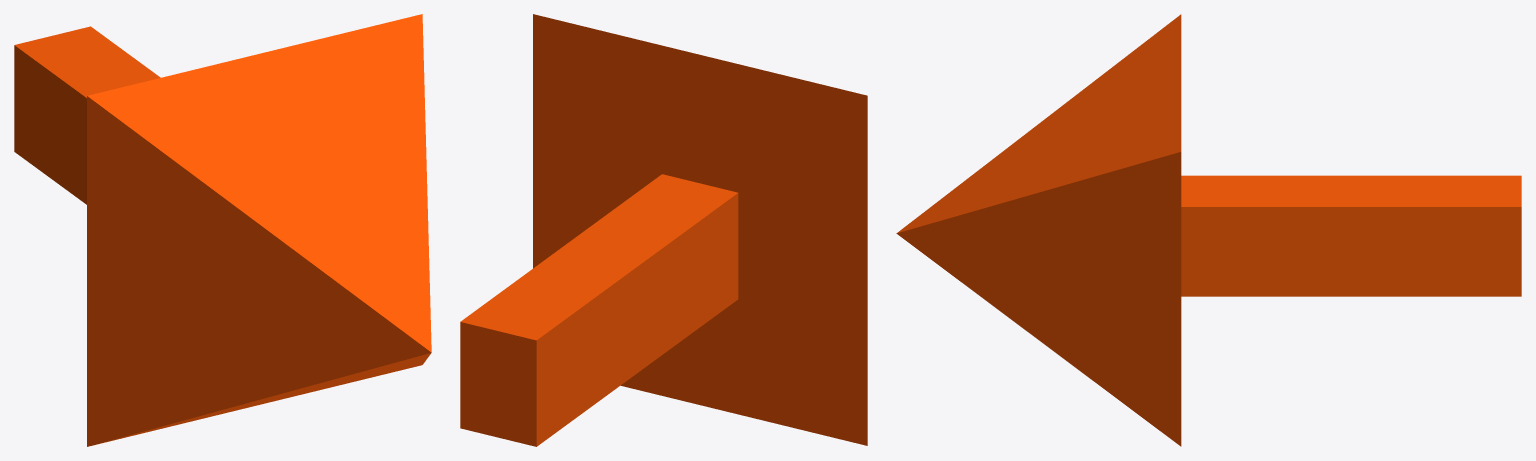
File: arrow2.fbx
The picture shows the model from 3 angles, left to right: view 1: azimuth 30°, elevation 25°; view 2: azimuth 150°, elevation 25°; view 3: azimuth 270°, elevation 25°; orthographic projection. The views are drawn at different scales.
Parts seen in each view (by area): view 1: arrow; view 2: arrow; view 3: arrow.
Part boxes in pixels (x1,y1,x2,y2): arrow: (14, 14, 431, 446); arrow: (460, 14, 867, 446); arrow: (896, 14, 1521, 446).
Size of the model in its own units: 115 by 115 by 221.
